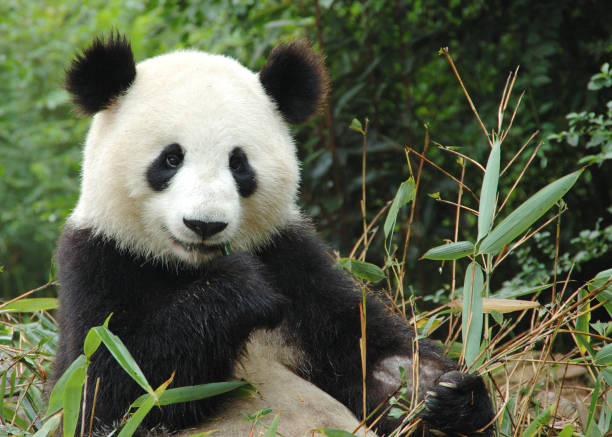panda: (37, 17, 350, 296)
